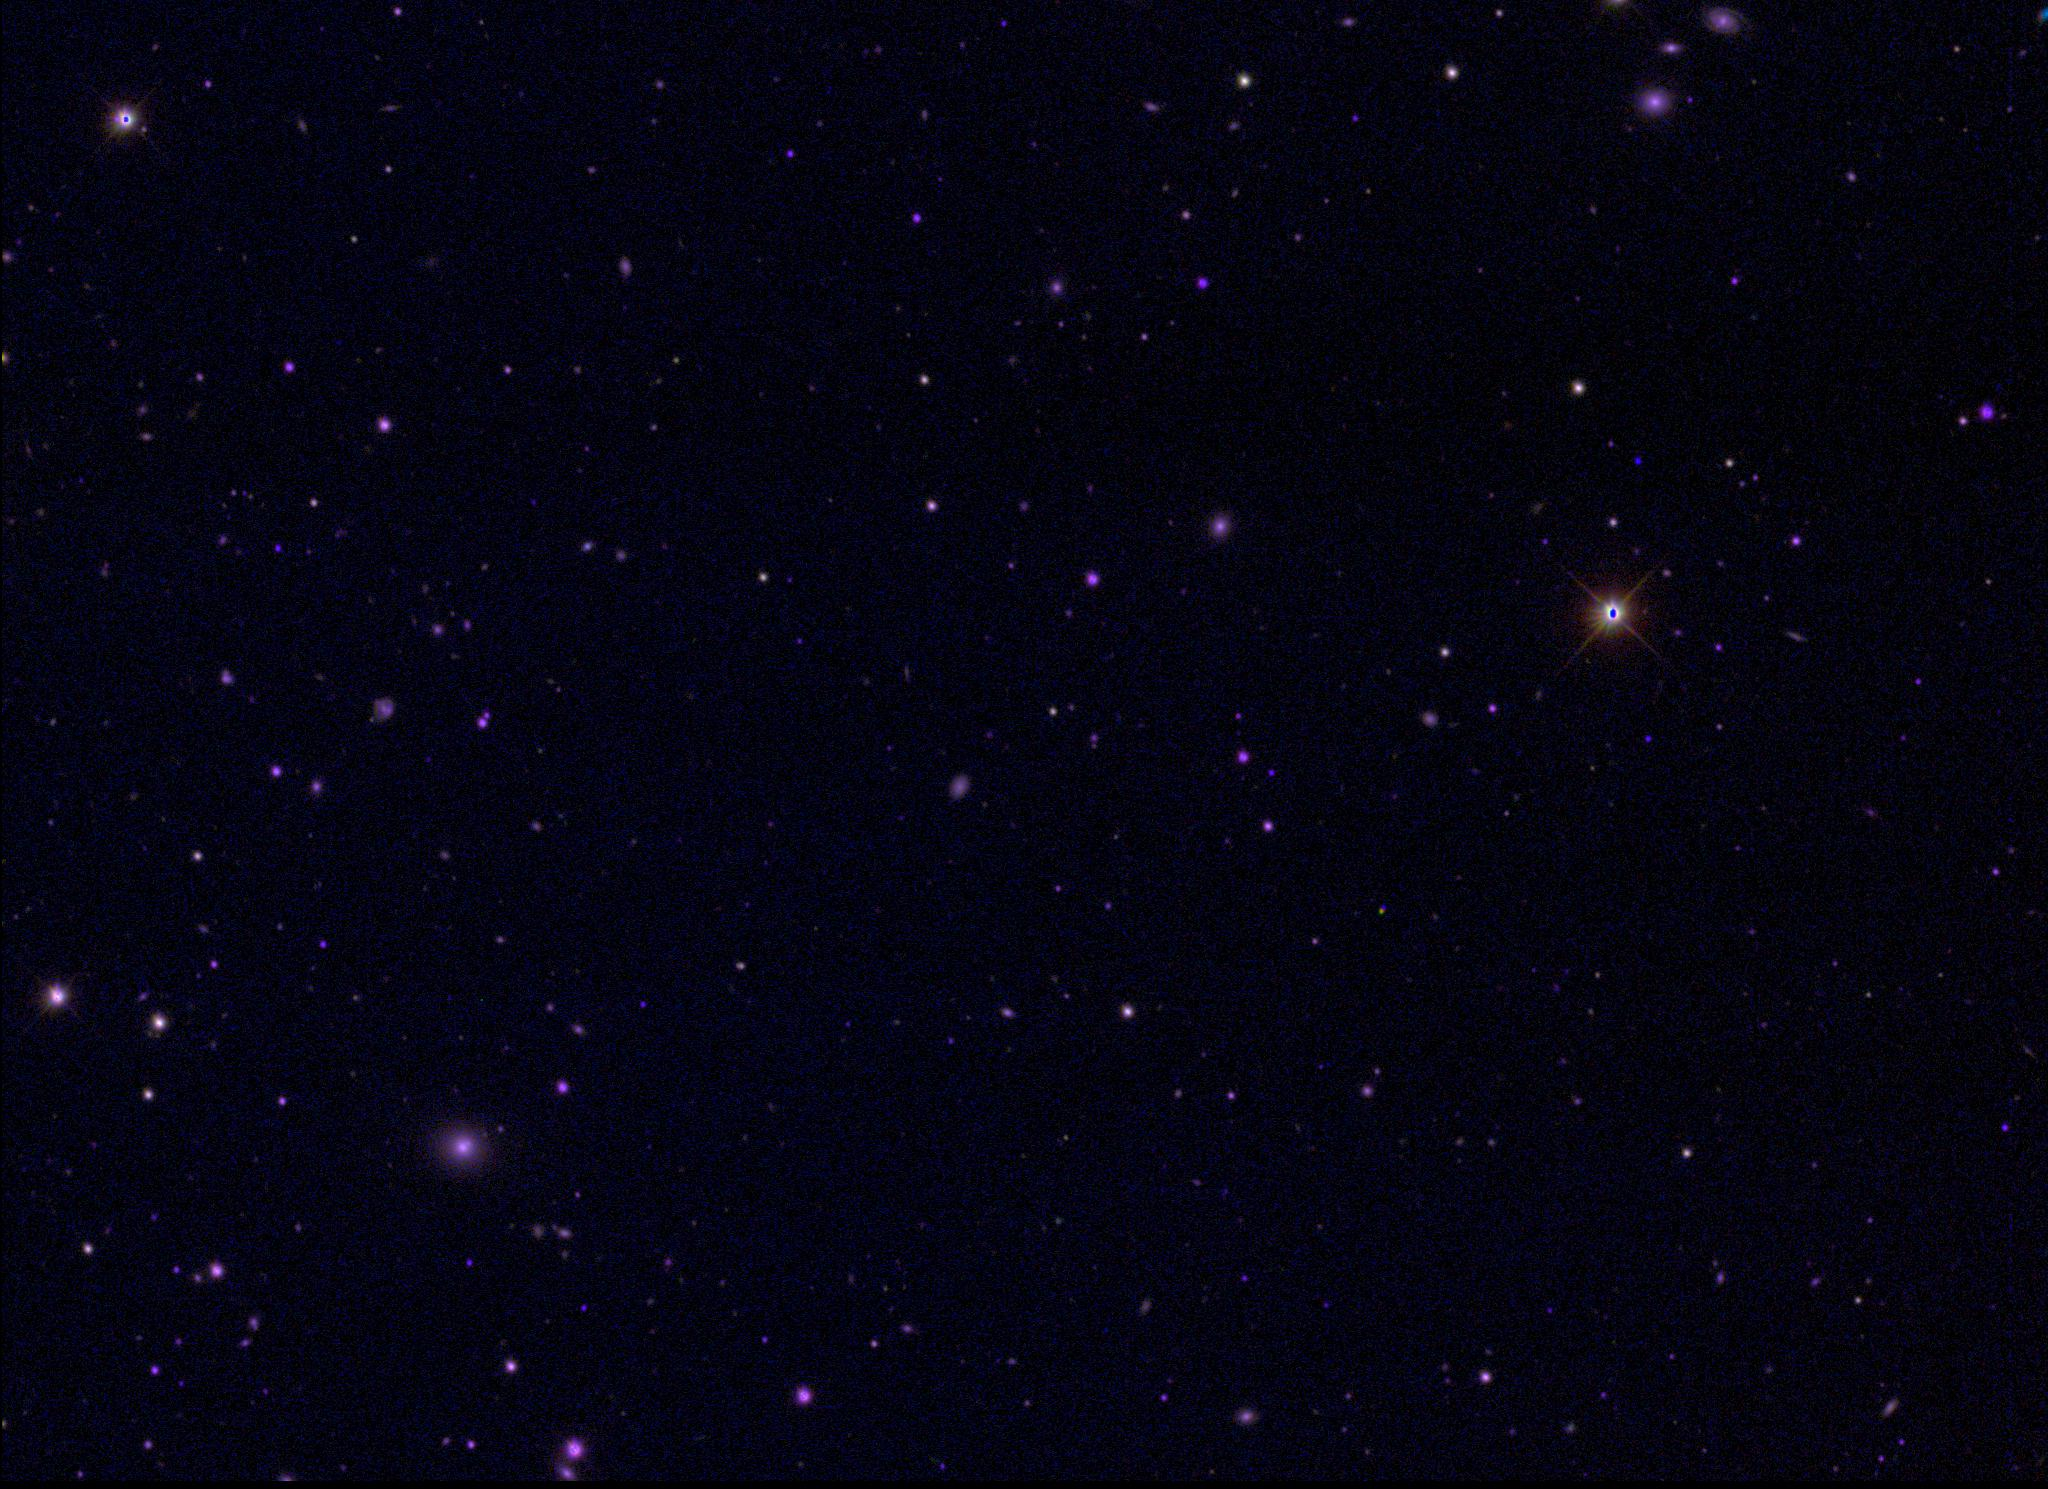L: (1630, 452, 1644, 465)
